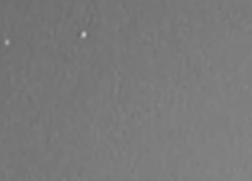Target: (6, 32, 87, 45)
